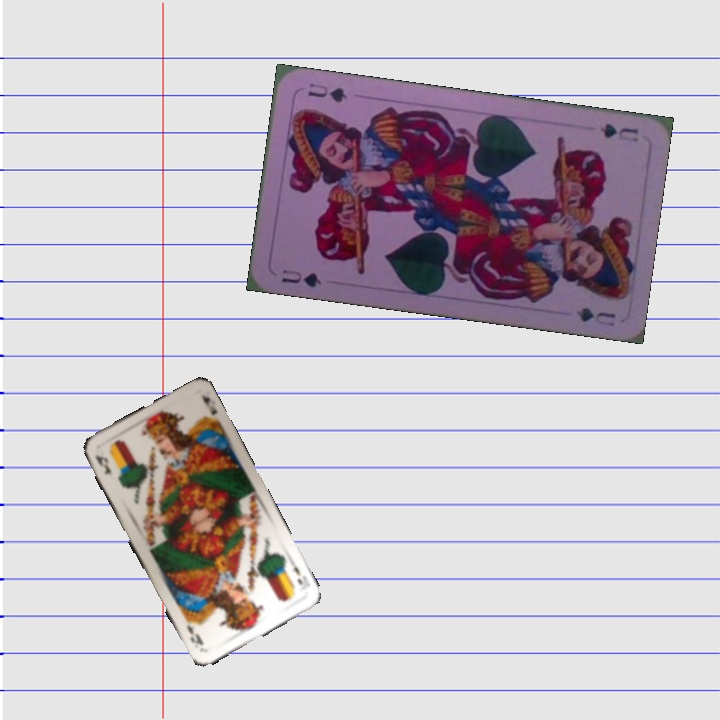EK: (289, 557, 313, 590), (91, 451, 115, 478)
GU: (277, 265, 324, 290), (596, 119, 641, 145)
